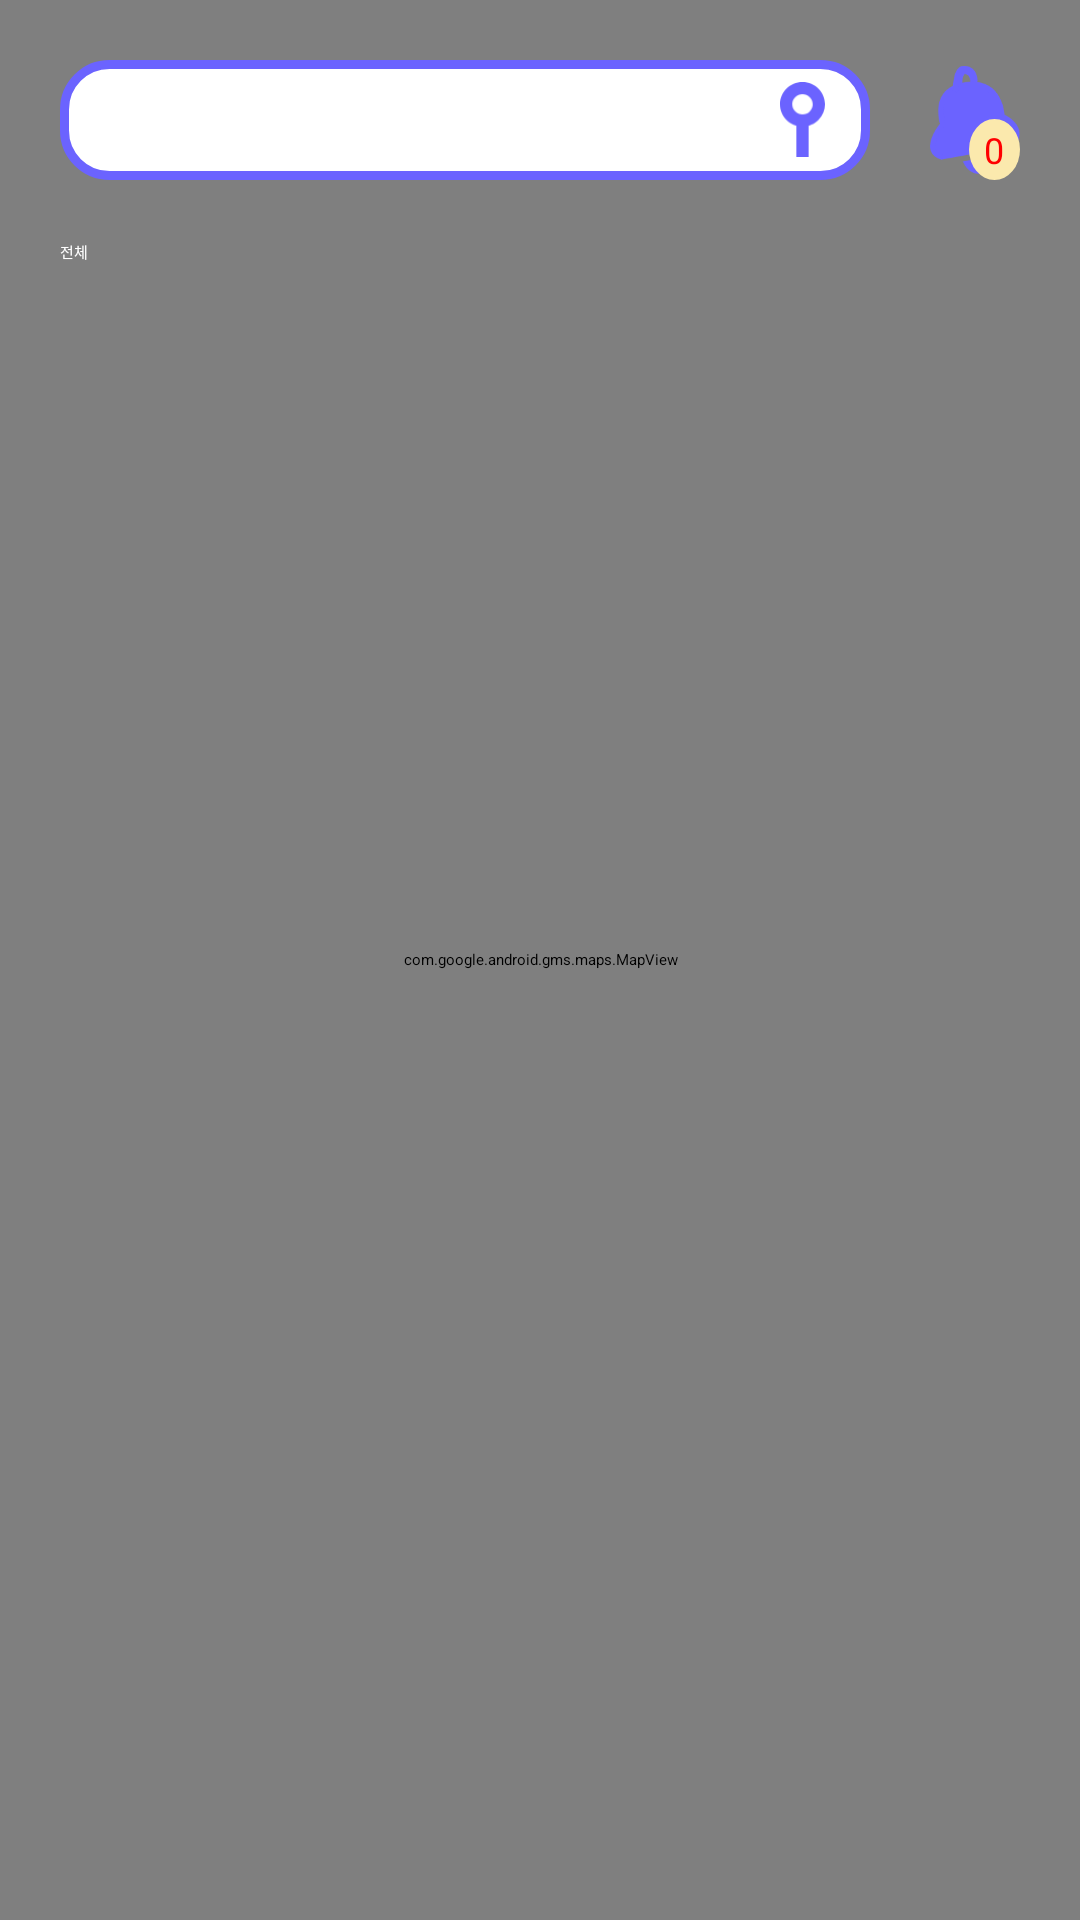

Icons on this 1080px x 1920px Android screen, each with its box as (x1, y1, x2, y2):
notification: (930, 66, 1020, 180)
